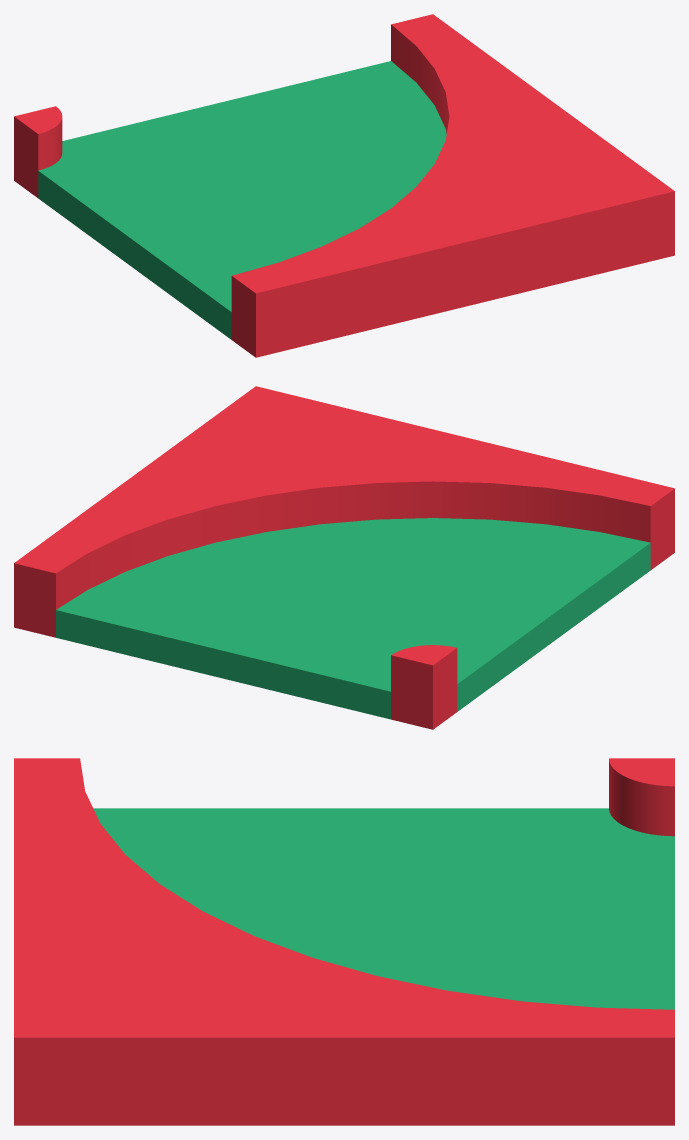
File: roundCornerB.fbx
3 renders of one model, top to bottom at view 1: azimuth 30°, elevation 25°; view 2: azimuth 150°, elevation 25°; view 3: azimuth 270°, elevation 25°, orthographic. The views are drawn at different scales.
Parts seen in each view (by area): view 1: roundCornerB; view 2: roundCornerB; view 3: roundCornerB.
Boxes of the visible parts, x1=… form: roundCornerB: x1=14, y1=14, x2=674, y2=357; roundCornerB: x1=14, y1=386, x2=674, y2=729; roundCornerB: x1=14, y1=758, x2=674, y2=1125.
Size of the model in its own units: 10 by 1.47 by 10.
